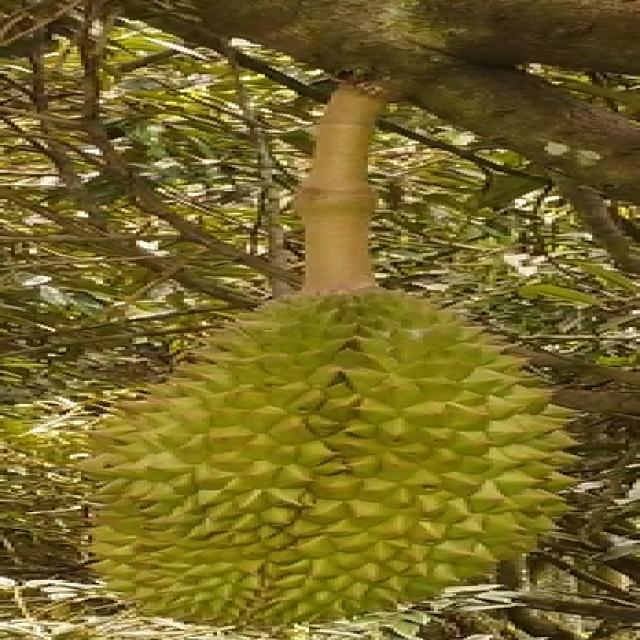immature: (80, 288, 590, 631)
